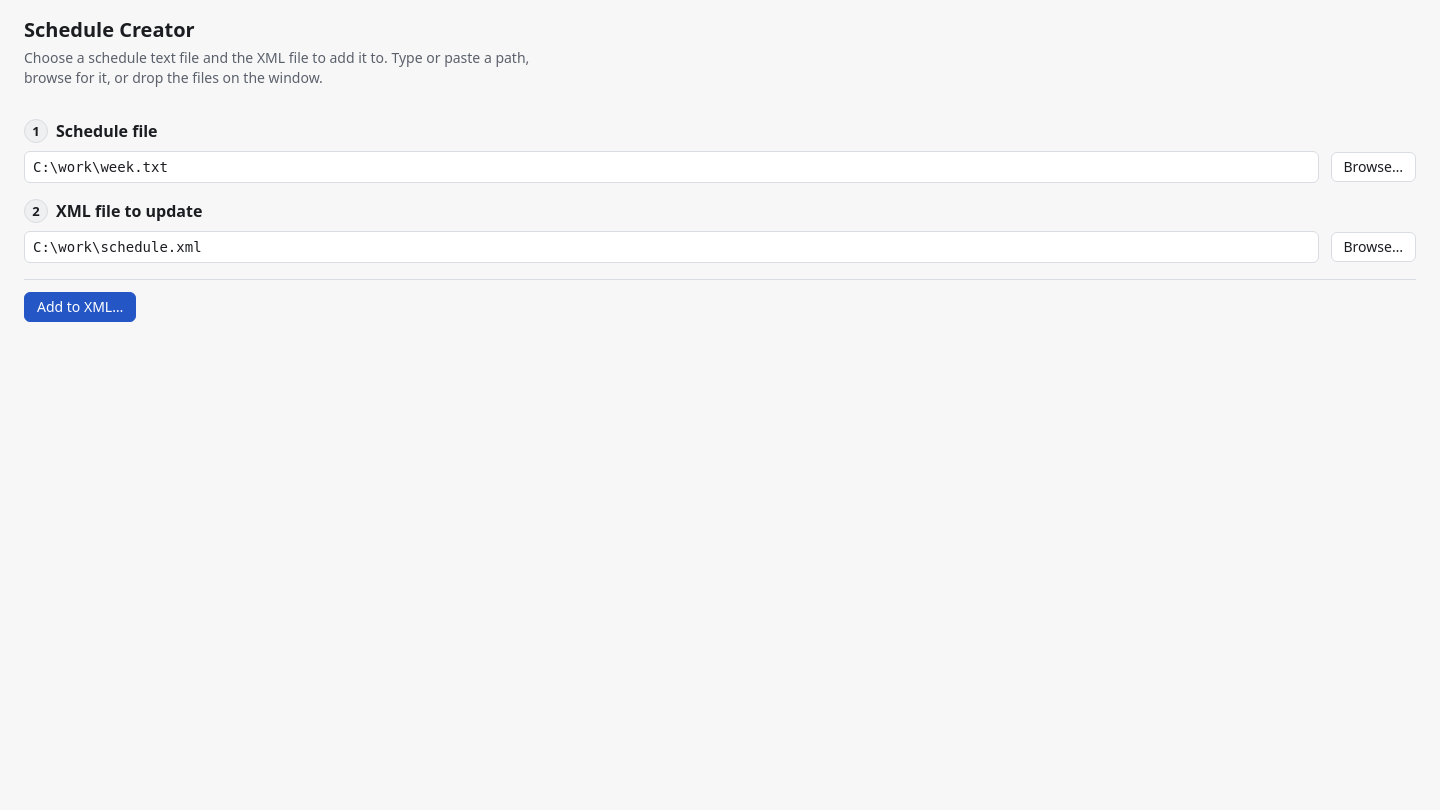
Test: drops are ignored while the confirmation is open
The width and height of the screenshot is (1440, 810).
Expected: the field labelled "Schedule file" is shown, top-left (24, 151), bottom-right (1318, 183)
Click the button "Add to XML…" at (80, 307), box top-left (24, 292), bottom-right (136, 322)
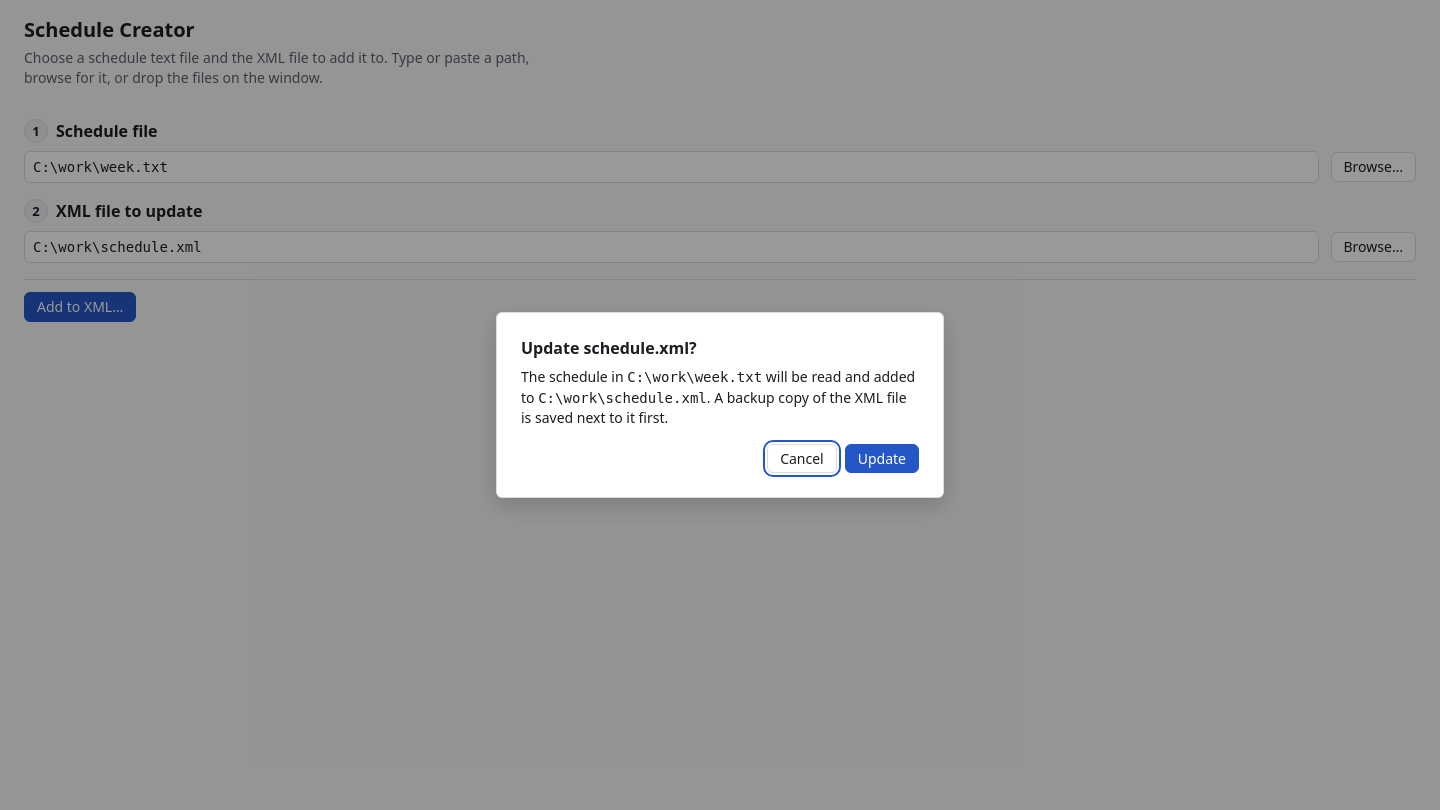
Now the dialog is shown, box top-left (496, 312), bottom-right (944, 498)
